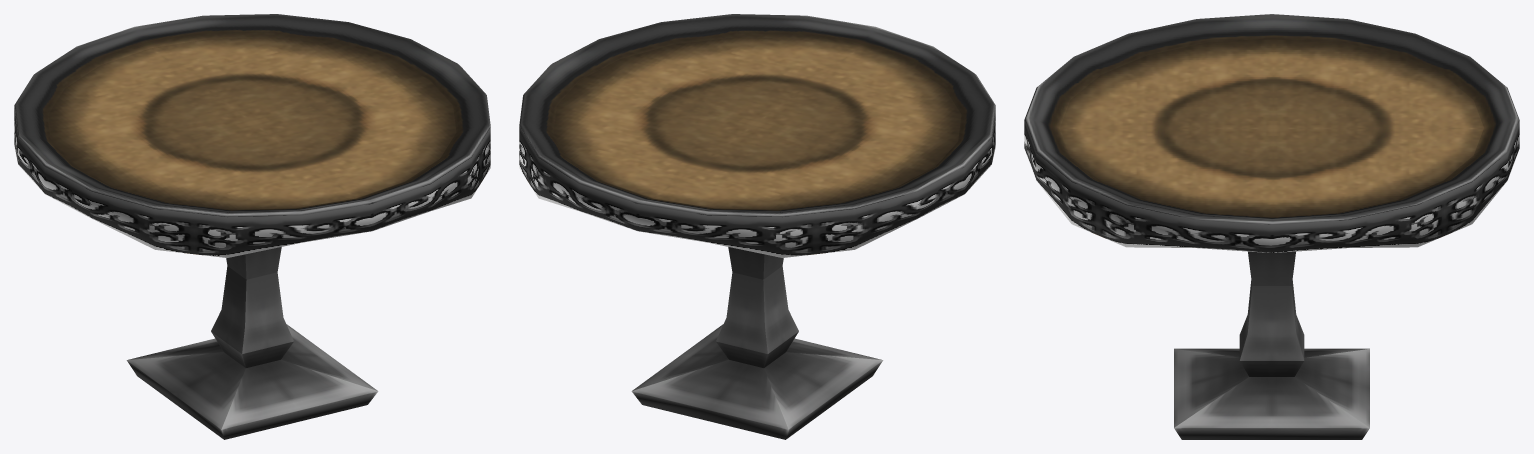
The model's file is AntiqueRoundTable_HD.fbx.
The picture shows the model from 3 angles, left to right: view 1: azimuth 30°, elevation 25°; view 2: azimuth 150°, elevation 25°; view 3: azimuth 270°, elevation 25°; orthographic projection. The views are drawn at different scales.
Parts seen in each view (by area): view 1: AntiqueRoundTable; view 2: AntiqueRoundTable; view 3: AntiqueRoundTable.
Boxes of the visible parts, x1,y1,x2,y2 form: AntiqueRoundTable: (14, 14, 490, 439); AntiqueRoundTable: (519, 14, 995, 439); AntiqueRoundTable: (1024, 14, 1519, 439).
Size of the model in its own units: 0.941 by 0.6004 by 0.941.
